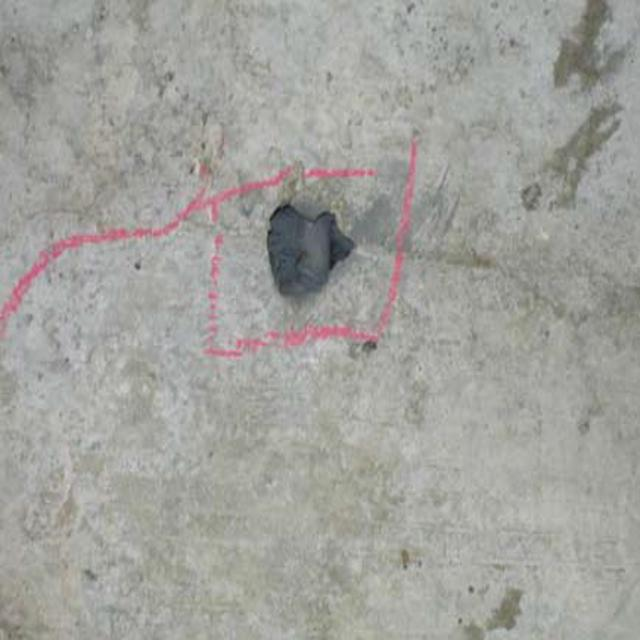spalling: (264, 187, 373, 312)
